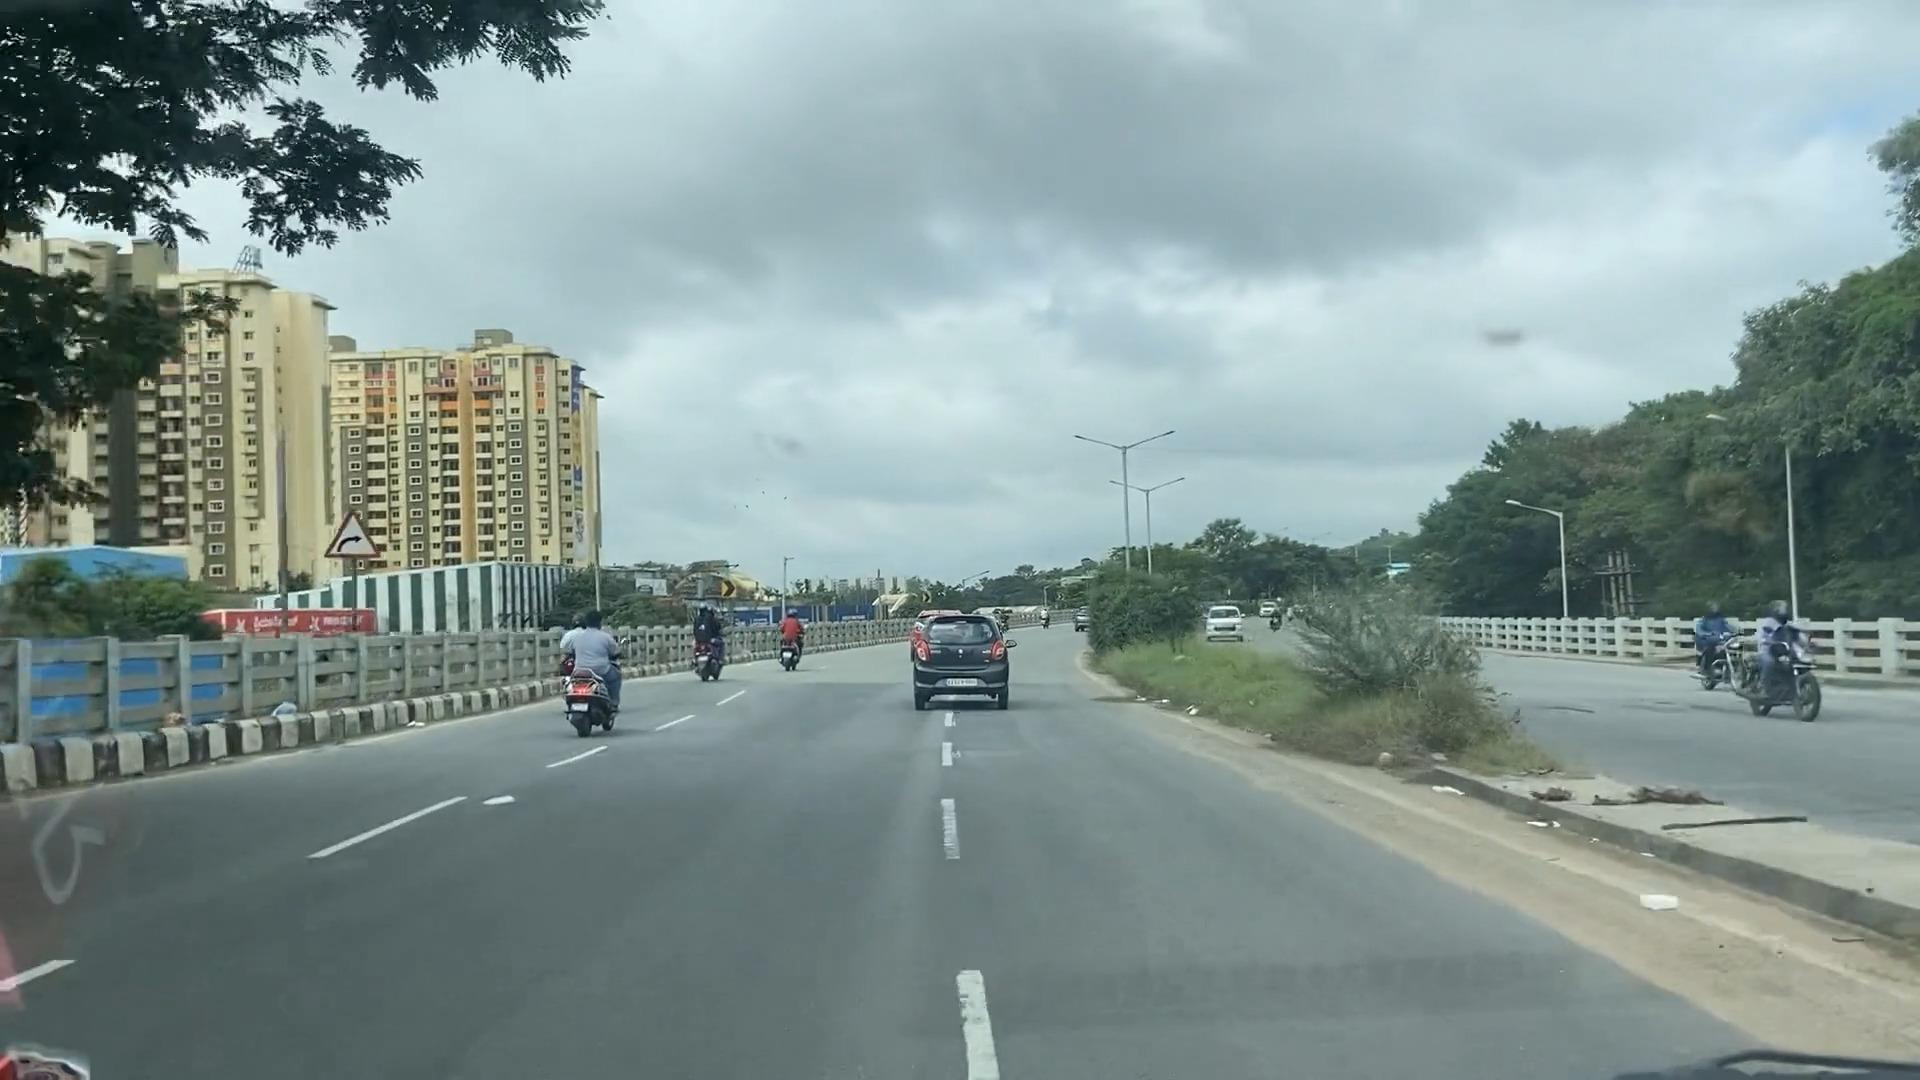LMV: (918, 611, 998, 700), (568, 612, 620, 727), (775, 611, 812, 669), (692, 604, 719, 667)
